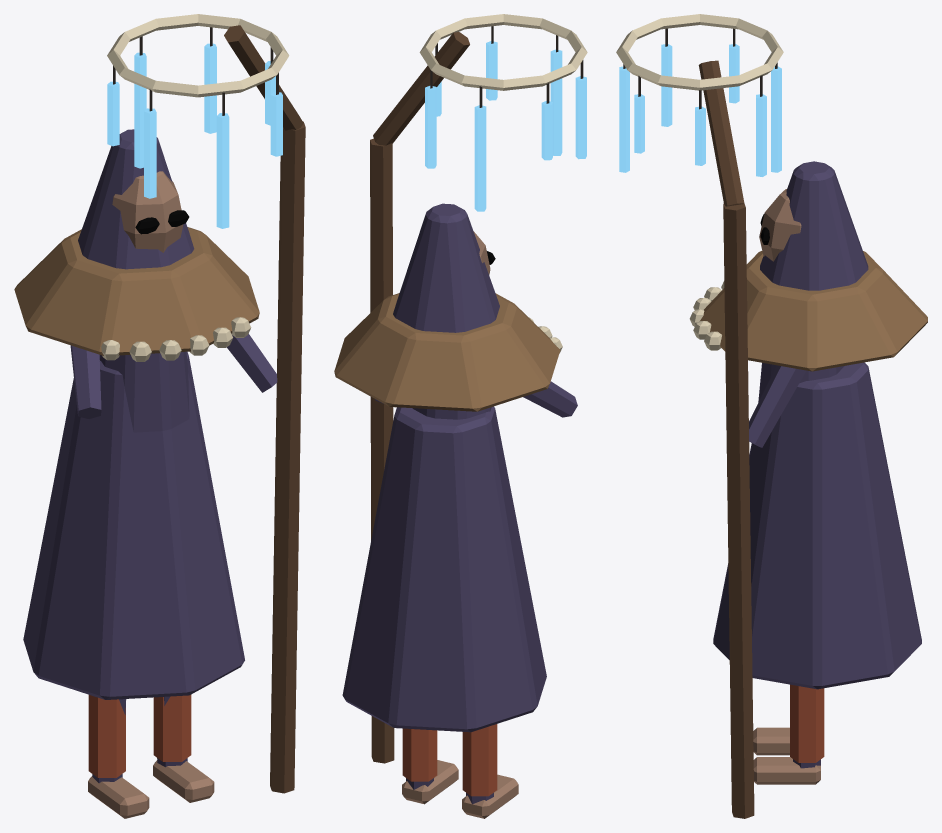
The model's file is exo-vellkeeper.glb.
3 renders of one model, left to right at view 1: azimuth 30°, elevation 25°; view 2: azimuth 150°, elevation 25°; view 3: azimuth 270°, elevation 25°, orthographic. The views are drawn at different scales.
Visible parts, largest first — view 1: body; view 2: body; view 3: body.
Boxes of the visible parts, x1,y1,x2,y2 form: body: [14, 14, 305, 818]; body: [334, 14, 587, 818]; body: [616, 14, 927, 818].
Size of the model in its own units: 1.44 by 4.63 by 1.8.
